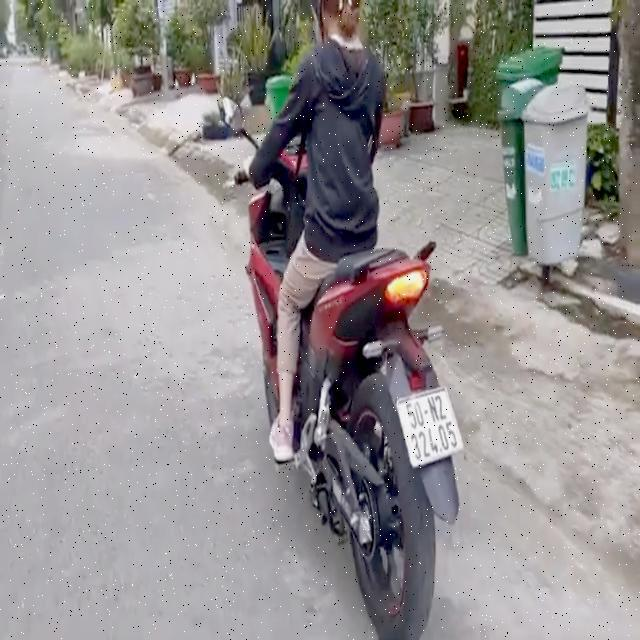motorcycle: (187, 89, 478, 640)
plate: (395, 384, 462, 467)
